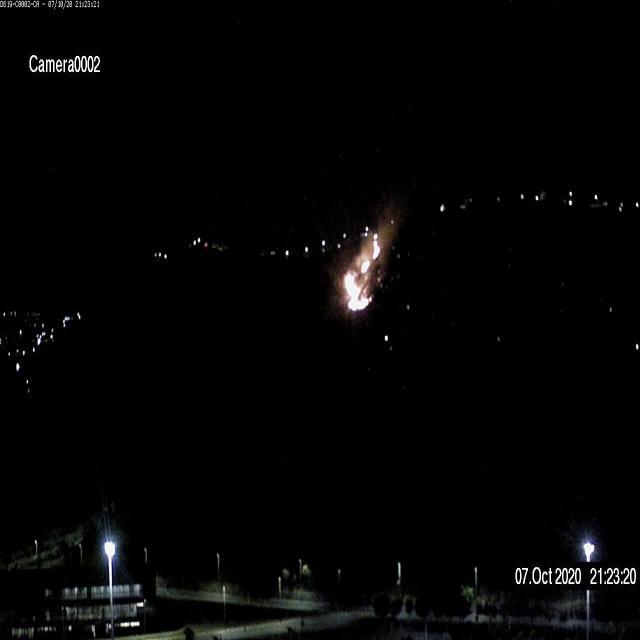Fire: (342, 227, 384, 310)
Smoke: (325, 196, 408, 318)
